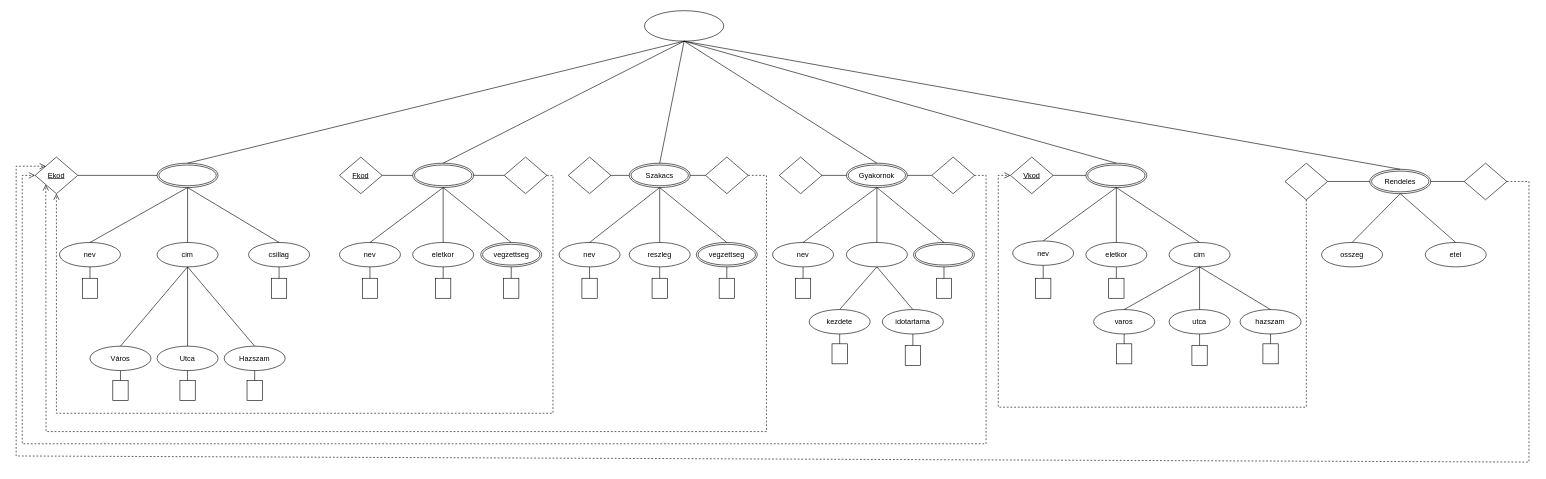
This 1546x479 diagram has some shape labels left out. The centre of each missing label's shape, as x and y in pixels:
"BSW6DS_Vendeglatas" belongs at point (684, 25).
"E_F" belongs at point (525, 175).
"E_GY" belongs at point (952, 175).
"E_sz" belongs at point (726, 175).
"E_V_E" belongs at point (1485, 181).
"E_V_V" belongs at point (1306, 181).
"Etterem" belongs at point (187, 175).
"Foszakacs" belongs at point (443, 175).
"gyakorlat" belongs at point (876, 254).
"Gykod" belongs at point (800, 175).
"muszak" belongs at point (943, 254).
"Szkod" belongs at point (589, 175).
"Vendeg" belongs at point (1116, 175).
